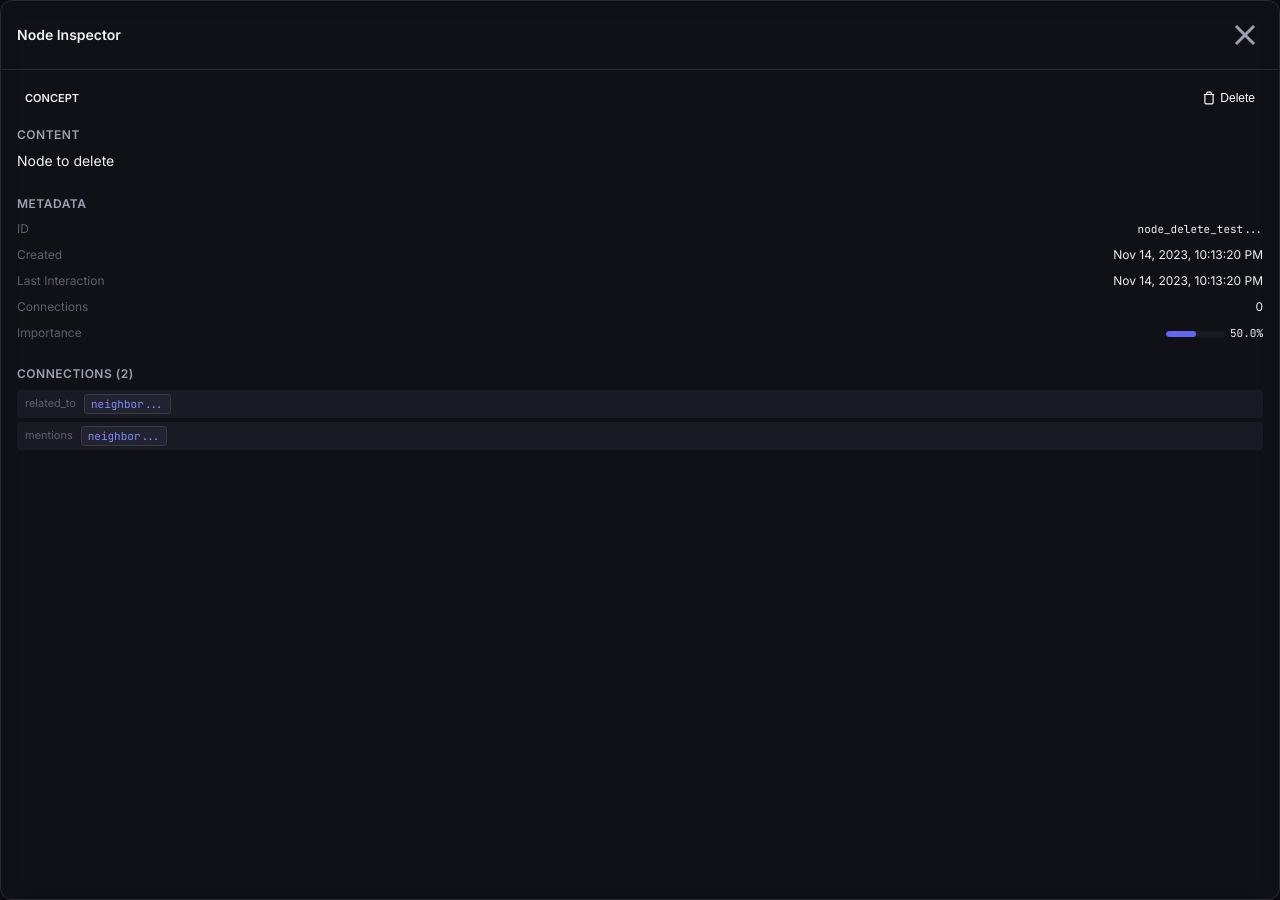
Test case: InspectorPanelComponent › delete flow › should show confirmation dialog when delete button is clicked
What coordinates should you click on to do the following:
click the button titled "Delete node"
I would click on:
 (1229, 98)
Its box is top-left (1194, 87), bottom-right (1263, 109).
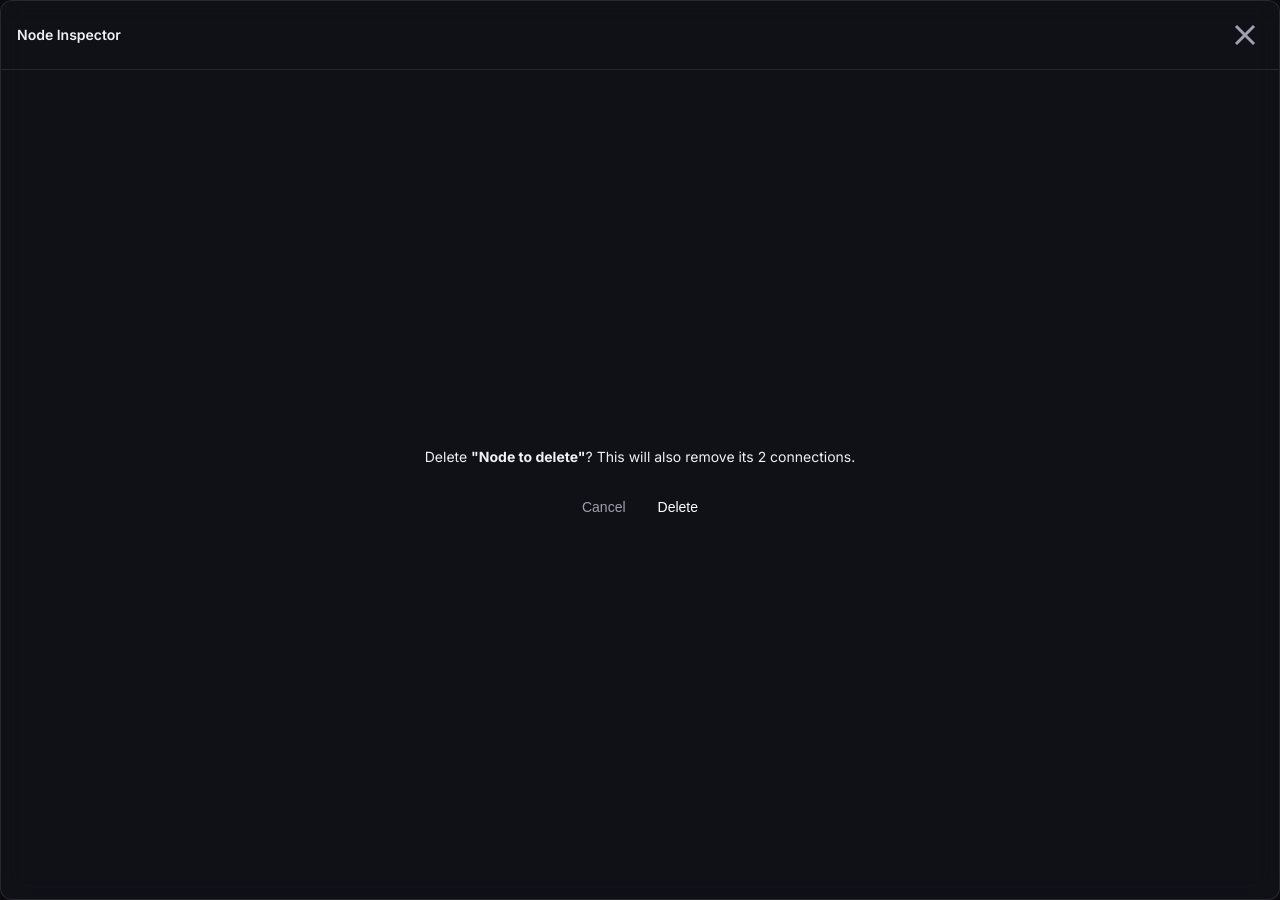
Expected: the element with class "delete-confirm" is shown, top-left (425, 448), bottom-right (855, 523)
Expected: the element with class "delete-confirm" shows "Node to delete", top-left (471, 448), bottom-right (586, 465)
Expected: the element with class "delete-confirm" shows "2 connections", top-left (586, 448), bottom-right (855, 465)
